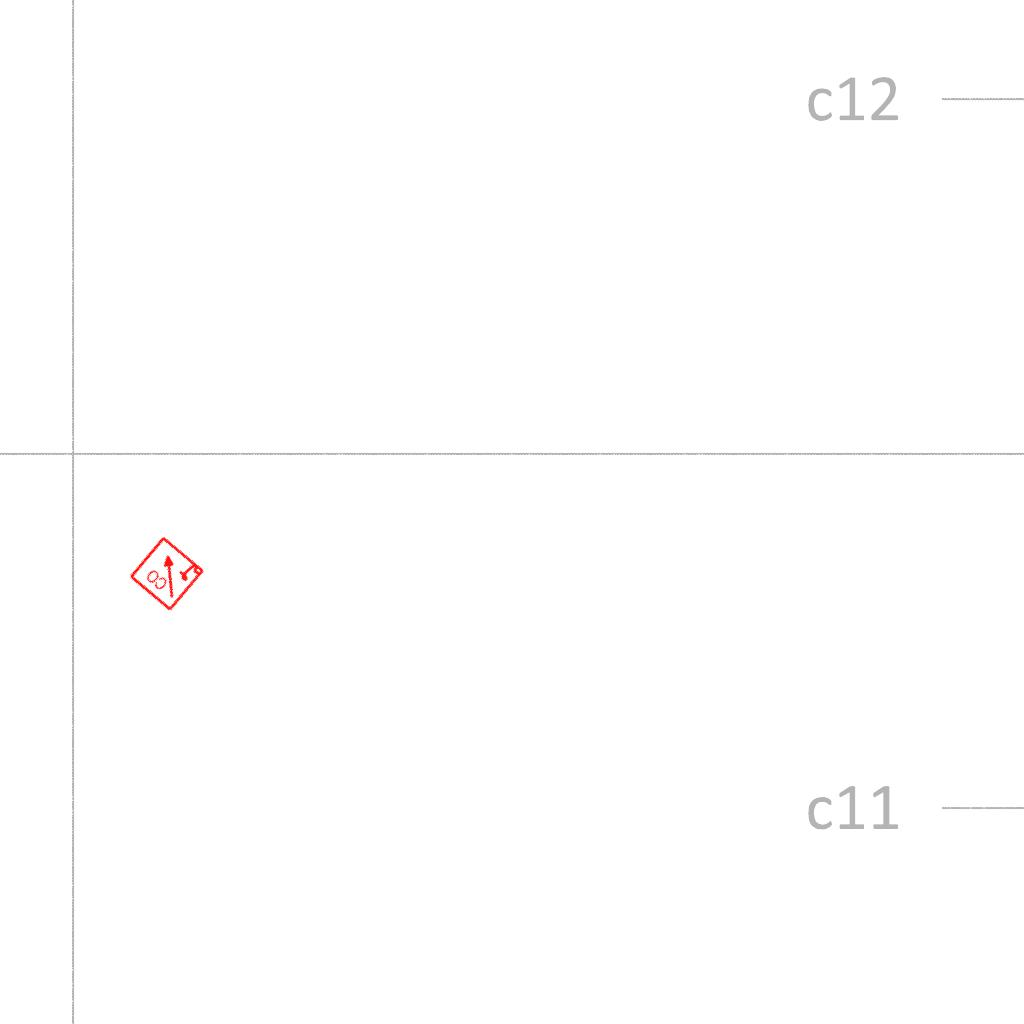ROA_Rauchmelder_optisch_mit_Signalgeber_(Sockelsirene): (127, 533, 207, 613)
